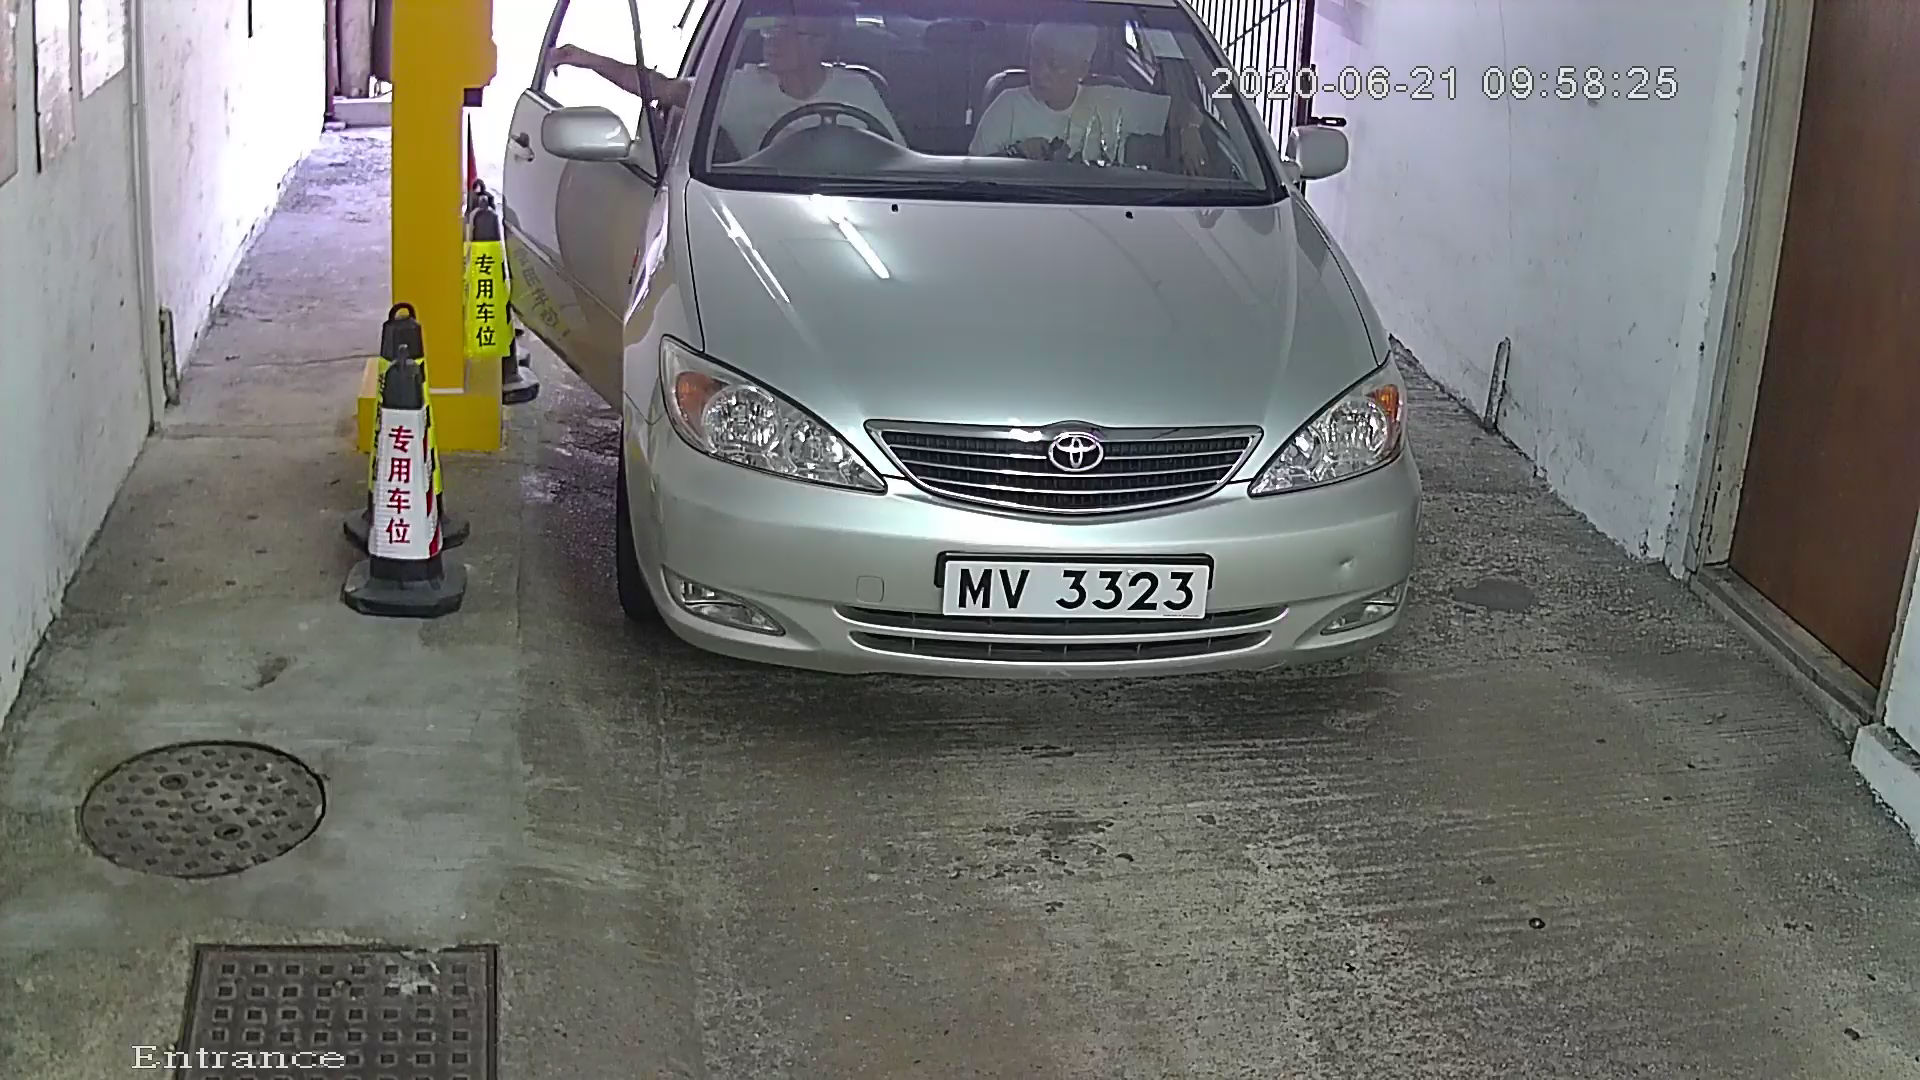privatecar: (480, 3, 1460, 760)
